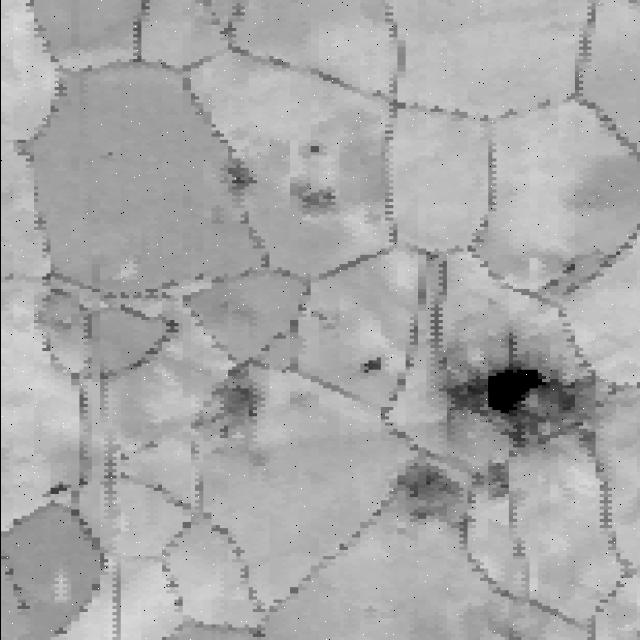good_void: (465, 335, 556, 426), (197, 376, 271, 440), (383, 459, 459, 519), (287, 176, 352, 227), (467, 600, 548, 640), (538, 251, 590, 294), (212, 156, 255, 199), (465, 461, 509, 500), (37, 476, 76, 501), (299, 302, 337, 327), (359, 352, 387, 379), (297, 135, 325, 157), (139, 438, 160, 456), (117, 451, 129, 463)
